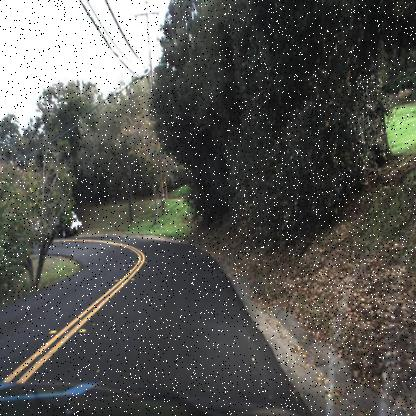car: (52, 201, 83, 238)
